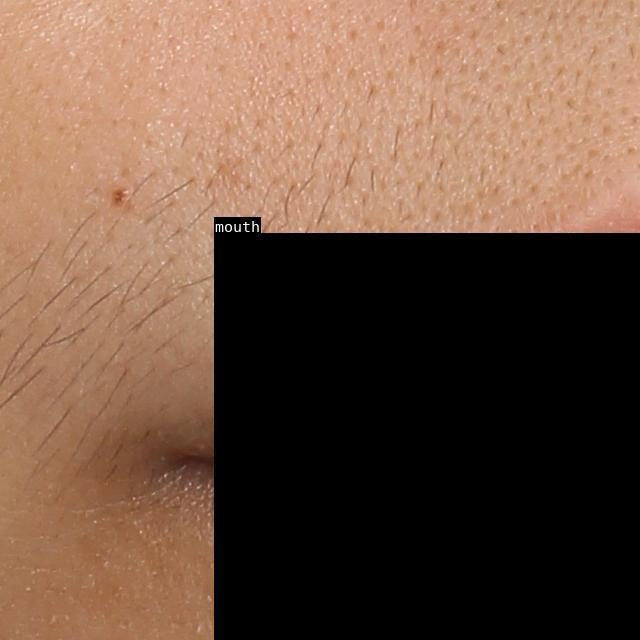nevus: (111, 178, 135, 209)
